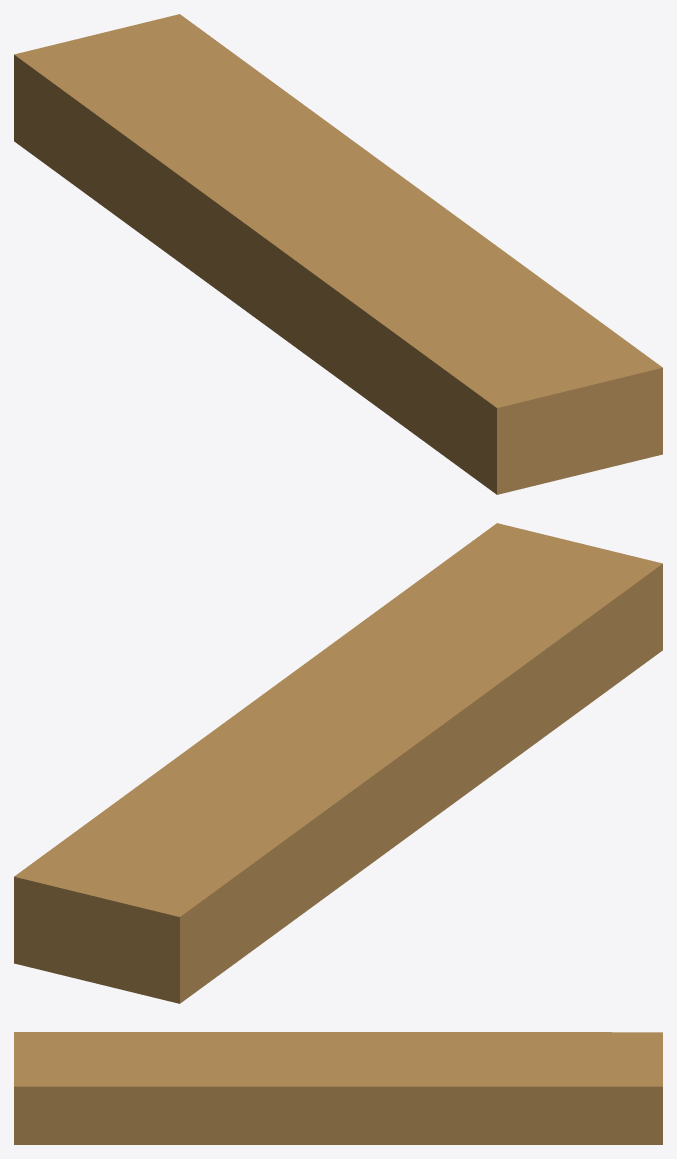
3 views of the same model, one above another, from view 1: azimuth 30°, elevation 25°; view 2: azimuth 150°, elevation 25°; view 3: azimuth 270°, elevation 25° (orthographic). The views are drawn at different scales.
Visible parts, largest first — view 1: RUN-085-S00-NOG-25; view 2: RUN-085-S00-NOG-25; view 3: RUN-085-S00-NOG-25.
Boxes of the visible parts, <box> form: RUN-085-S00-NOG-25: <box>14,14,662,494</box>; RUN-085-S00-NOG-25: <box>14,523,662,1003</box>; RUN-085-S00-NOG-25: <box>14,1032,662,1144</box>.
Bounding box in the file's own units: 0.09 × 0.045 × 0.454.
